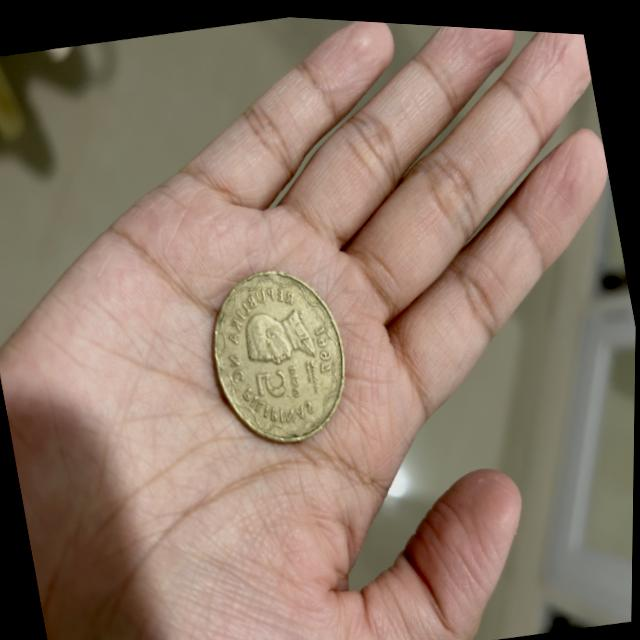5_Old_Front: (245, 354, 307, 413)
